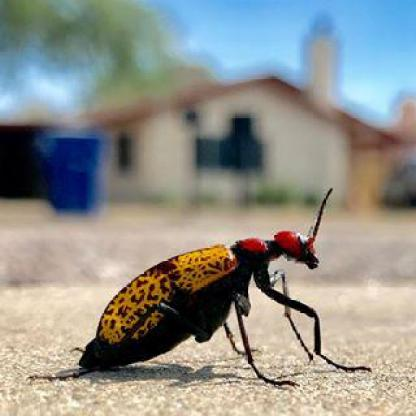beetle: (66, 220, 379, 392)
